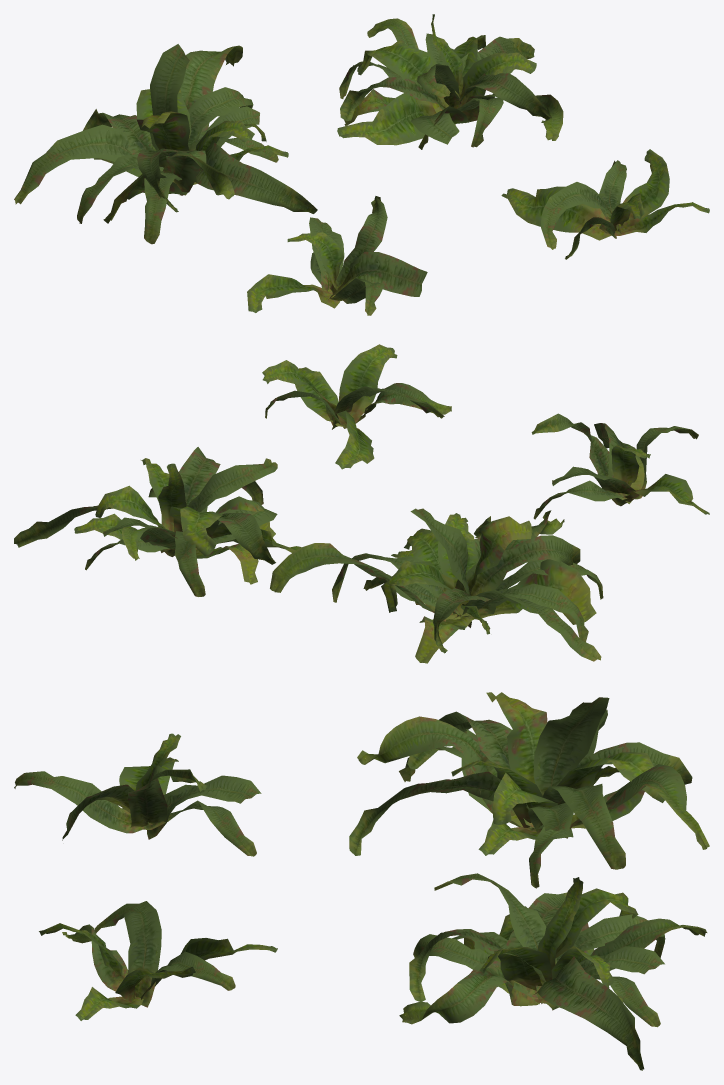
File: fern.glb
3 renders of one model, top to bottom at view 1: azimuth 30°, elevation 25°; view 2: azimuth 150°, elevation 25°; view 3: azimuth 270°, elevation 25°, orthographic. The views are drawn at different scales.
Visible parts, largest first — view 1: fern_02_b; view 2: fern_02_b; view 3: fern_02_b.
Boxes of the visible parts, x1,y1,x2,y2 form: fern_02_b: [14, 14, 709, 315]; fern_02_b: [14, 344, 709, 663]; fern_02_b: [14, 692, 709, 1070].
Bounding box in the file's own units: 1.97 × 0.4277 × 1.72.
1 material, 1 textured.
